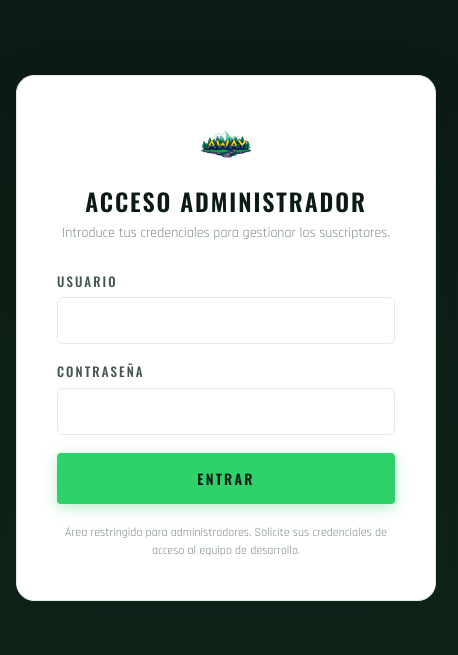
Test: AdminLogin › muestra error cuando las credenciales son incorrectas
The image size is (458, 655).
Type "admin" into the field labelled "Usuario" at (226, 321), box [57, 297, 395, 344]
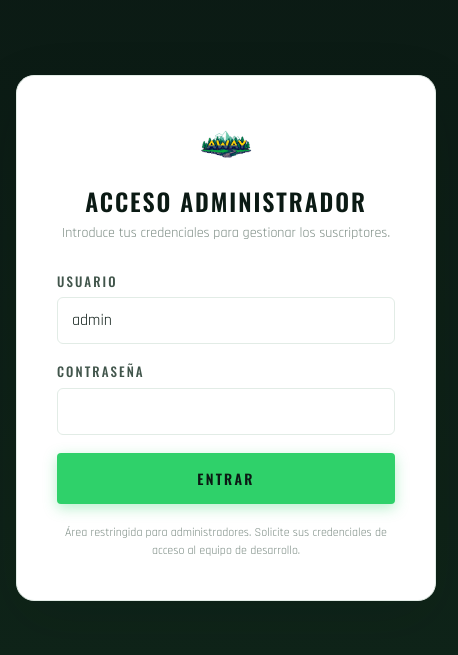
Type "mala" into the password field labelled "Contraseña" at (226, 411), box [57, 388, 395, 435]
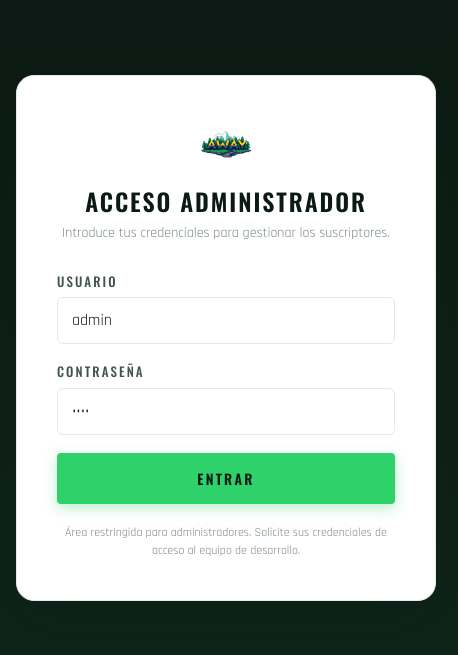
Click the button "Entrar" at (226, 478), box [57, 453, 395, 504]
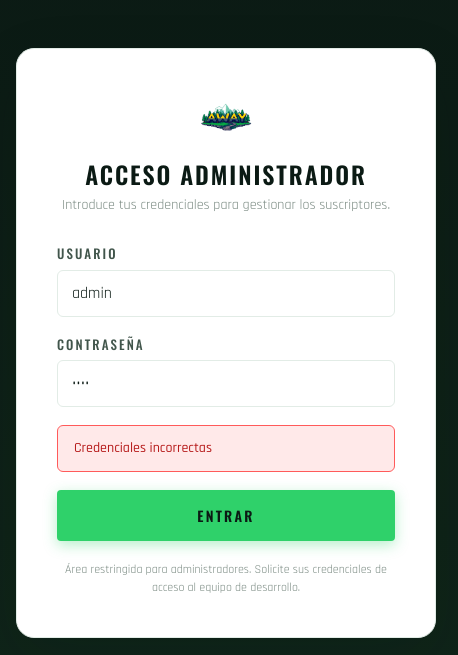
Now the text "Credenciales incorrectas" is shown, box [57, 425, 395, 472]
